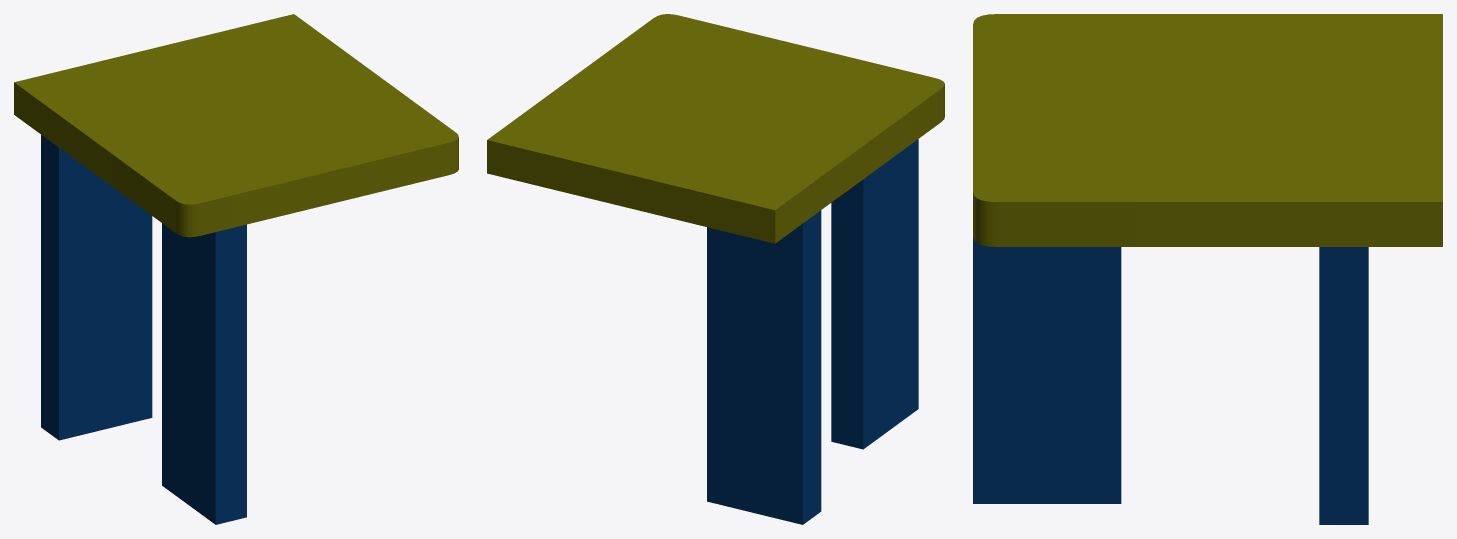
The model's file is T12DirB.fbx.
3 renders of one model, left to right at view 1: azimuth 30°, elevation 25°; view 2: azimuth 150°, elevation 25°; view 3: azimuth 270°, elevation 25°, orthographic. The views are drawn at different scales.
Parts seen in each view (by area): view 1: 4, 3, 1, 2; view 2: 4, 3, 2, 1; view 3: 3, 4, 2, 1.
Part boxes in pixels (box(x1,y1,x2,y2)): 4: box(14, 48, 238, 440); 3: box(99, 110, 324, 524); 1: box(239, 76, 458, 205); 2: box(154, 14, 378, 110); 4: box(631, 111, 862, 524); 3: box(719, 46, 944, 449); 2: box(487, 76, 718, 208); 1: box(575, 14, 805, 110); 3: box(973, 14, 1207, 503); 4: box(1208, 14, 1442, 524); 2: box(1208, 108, 1442, 246); 1: box(973, 108, 1207, 246).
Bounding box in the file's own units: 180 × 200 × 190.
